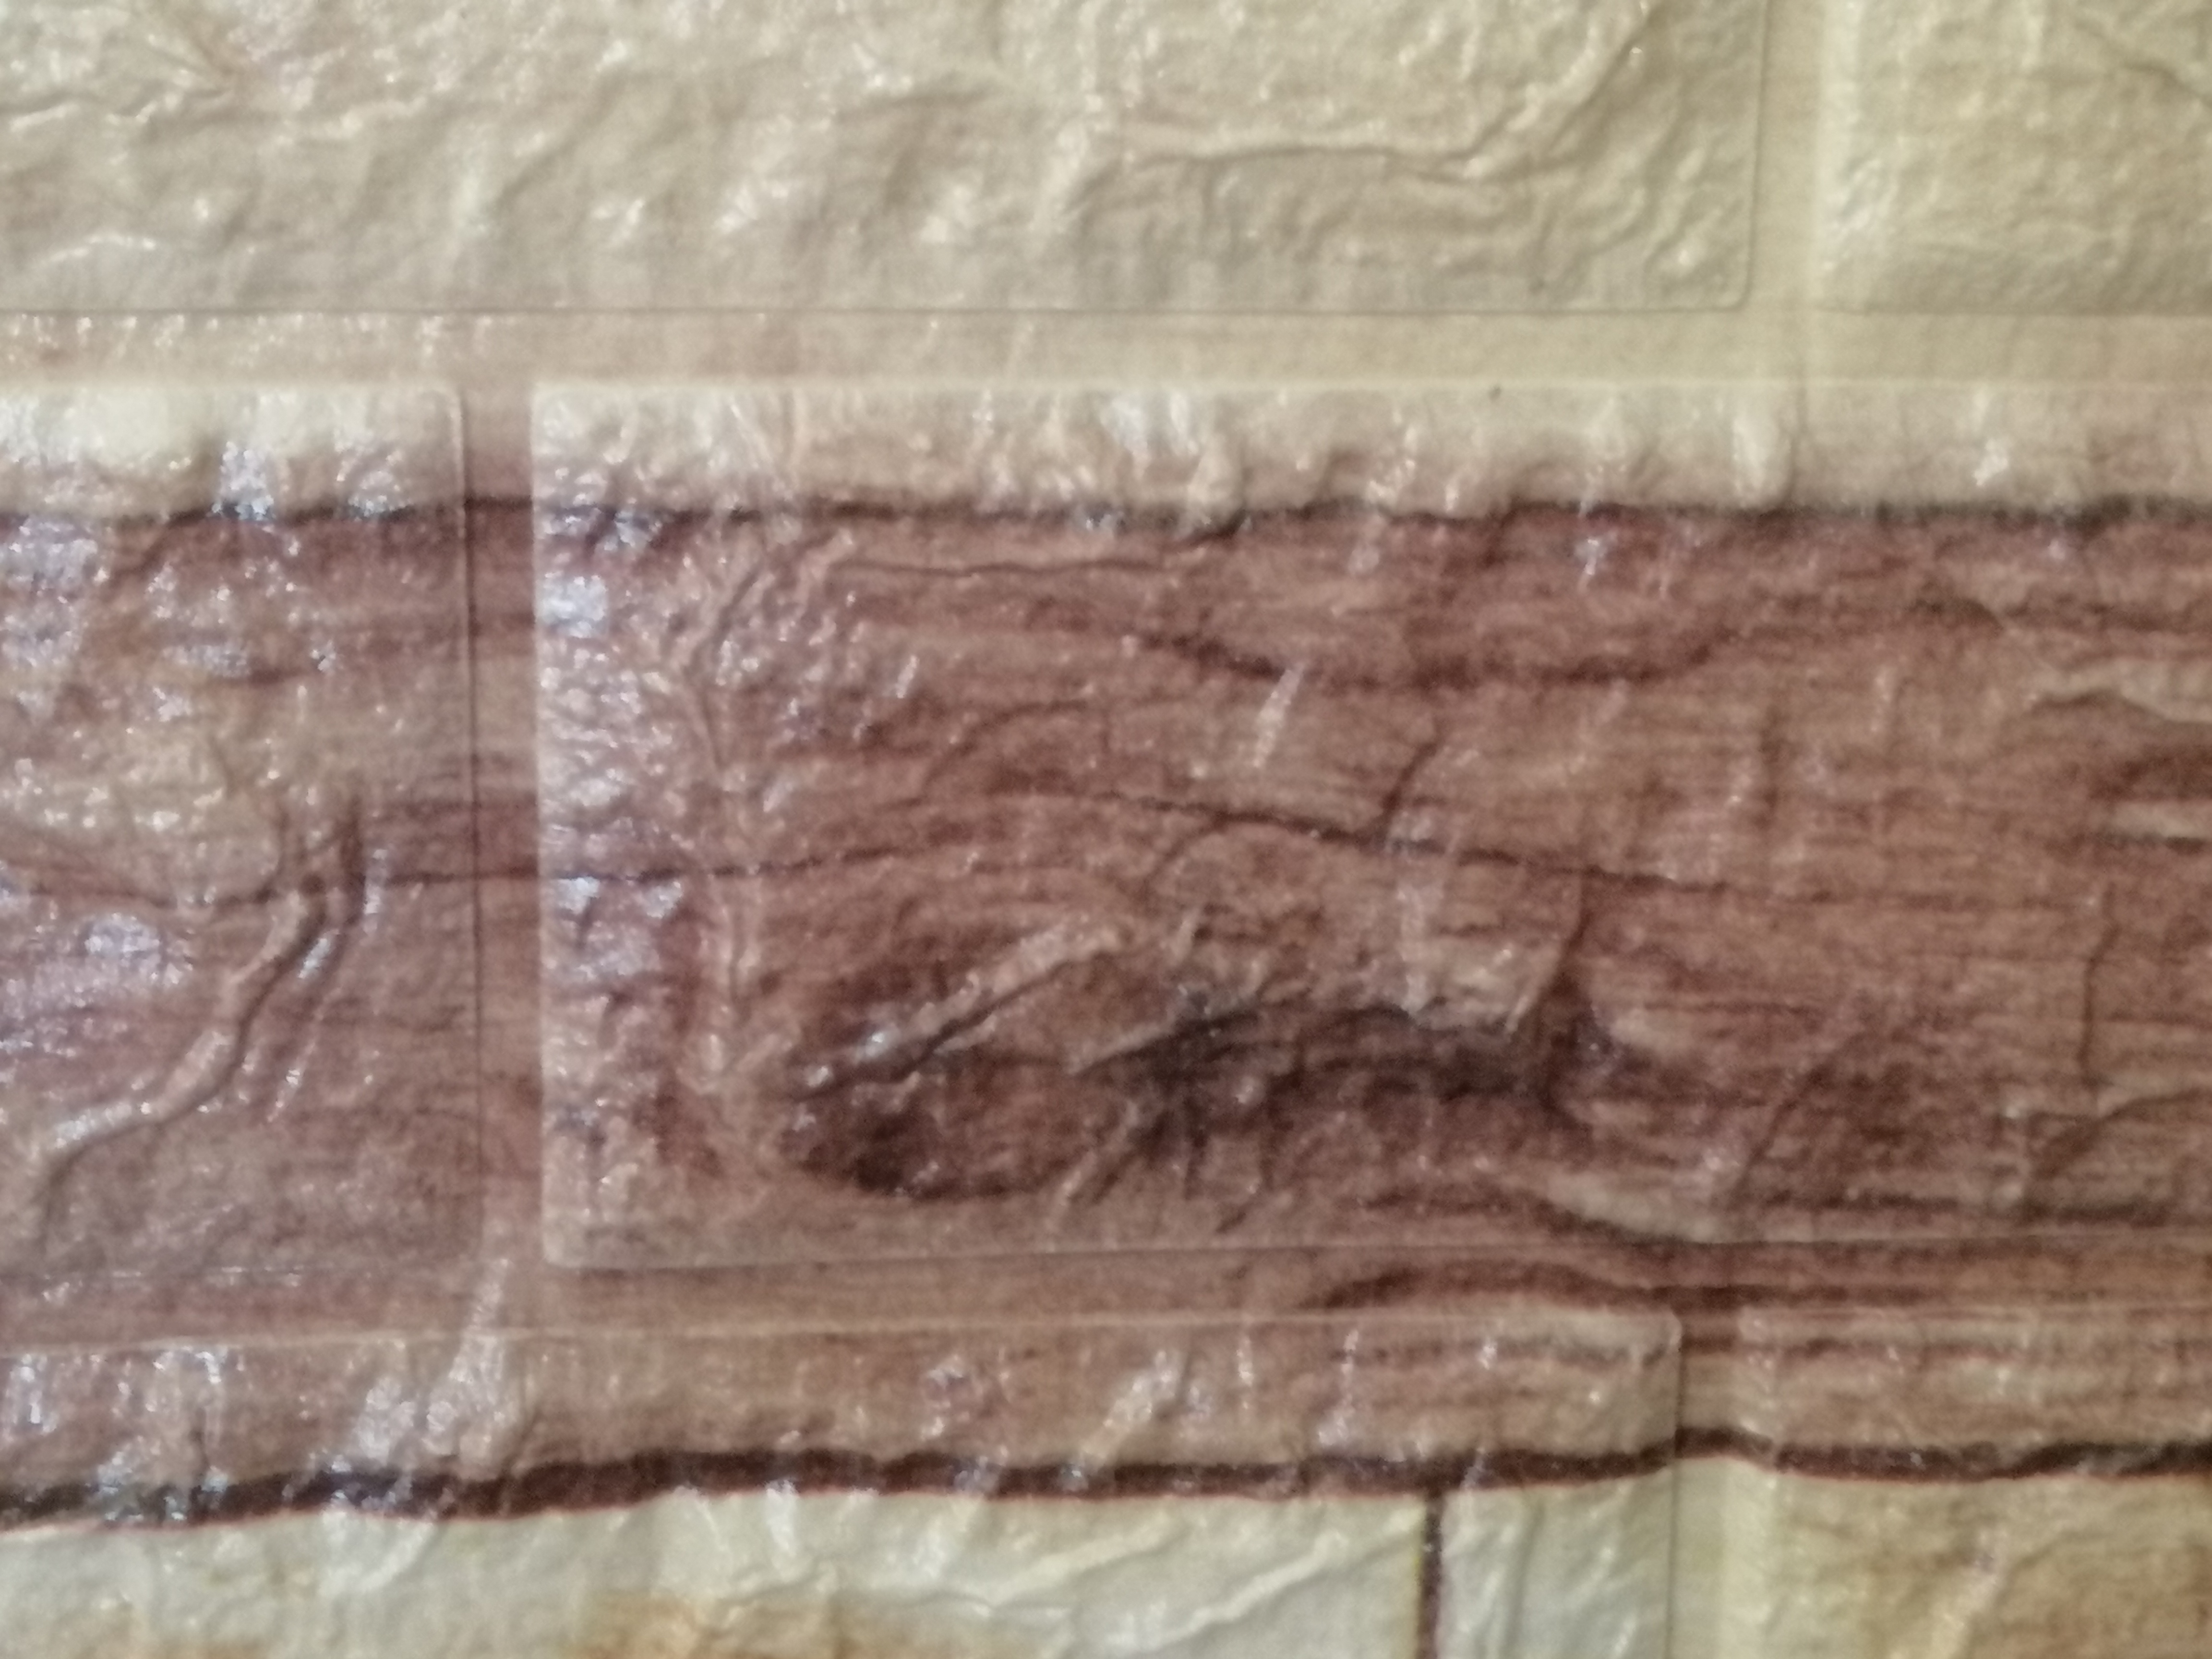wall: (171, 120, 2123, 1600)
